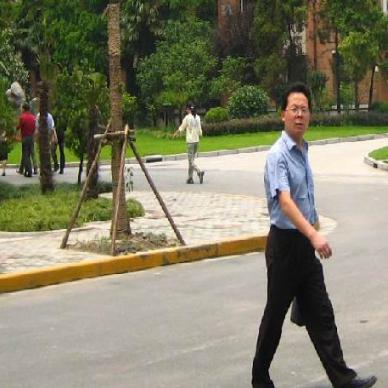ped: (251, 82, 377, 388), (176, 102, 205, 183), (17, 103, 36, 175)
